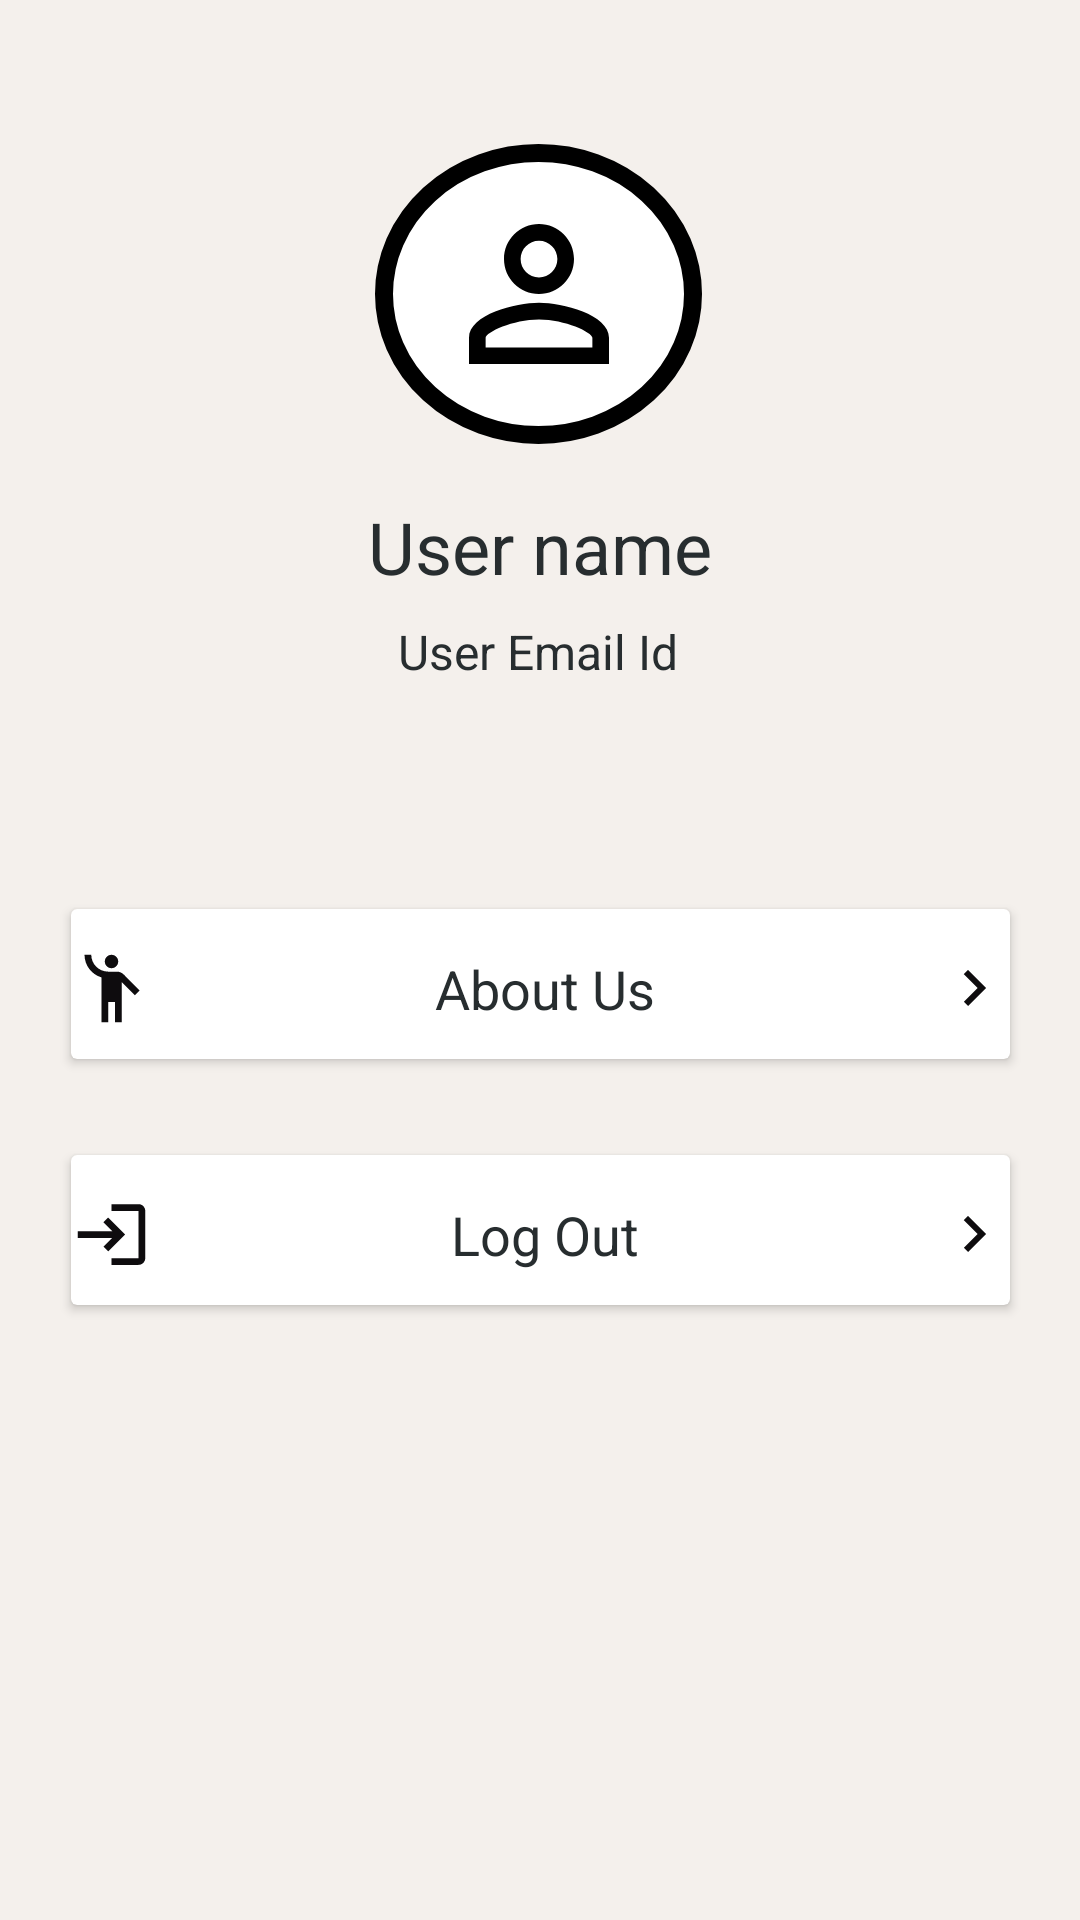

Icon bounding boxes for this 1080w x 1920h phone screenshot, format box(x1, y1, x2, y2):
User profile picture: box(375, 144, 702, 444)
